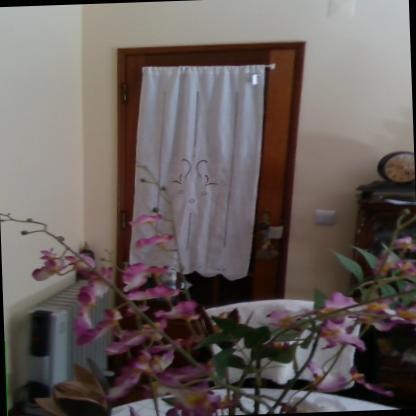closed: (102, 34, 324, 416)
